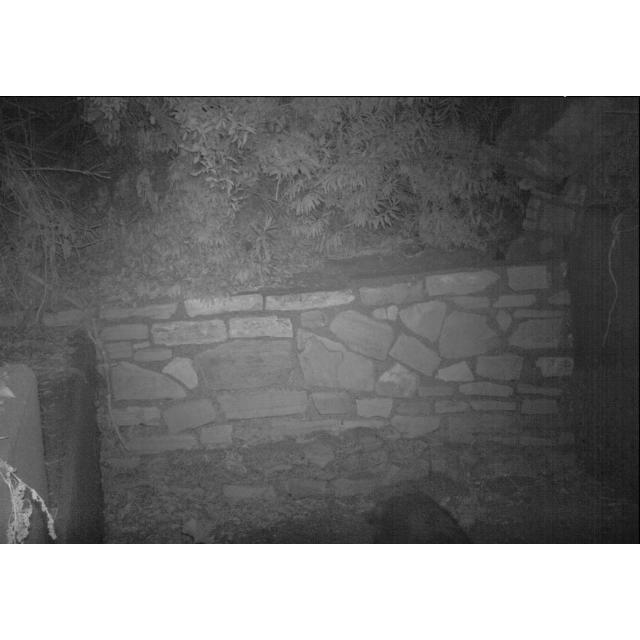animals: (359, 491, 485, 545)
